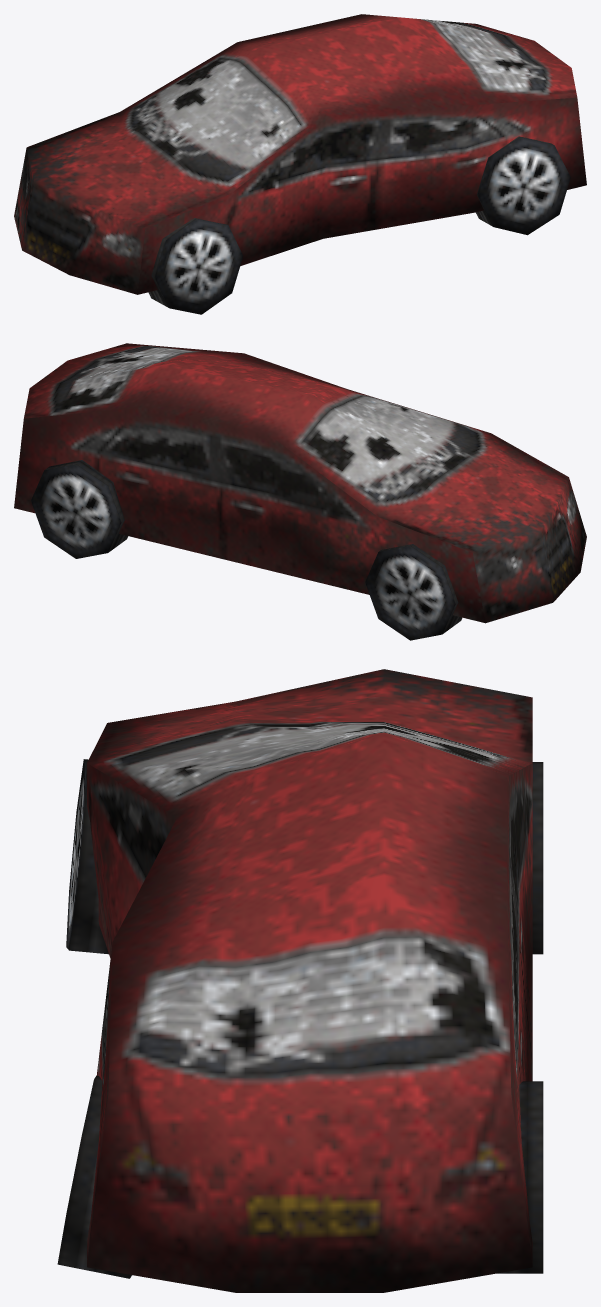
Rendered from car4.fbx.
3 views of the same model, one above another, from view 1: azimuth 30°, elevation 25°; view 2: azimuth 150°, elevation 25°; view 3: azimuth 270°, elevation 25° (orthographic). The views are drawn at different scales.
Visible parts, largest first — view 1: car4; view 2: car4; view 3: car4.
Boxes of the visible parts, box(x1,y1,x2,y2) form: car4: box(14, 14, 586, 314); car4: box(14, 343, 586, 640); car4: box(57, 669, 543, 1292).
Size of the model in its own units: 467 by 190 by 154.
1 material, 1 textured.
